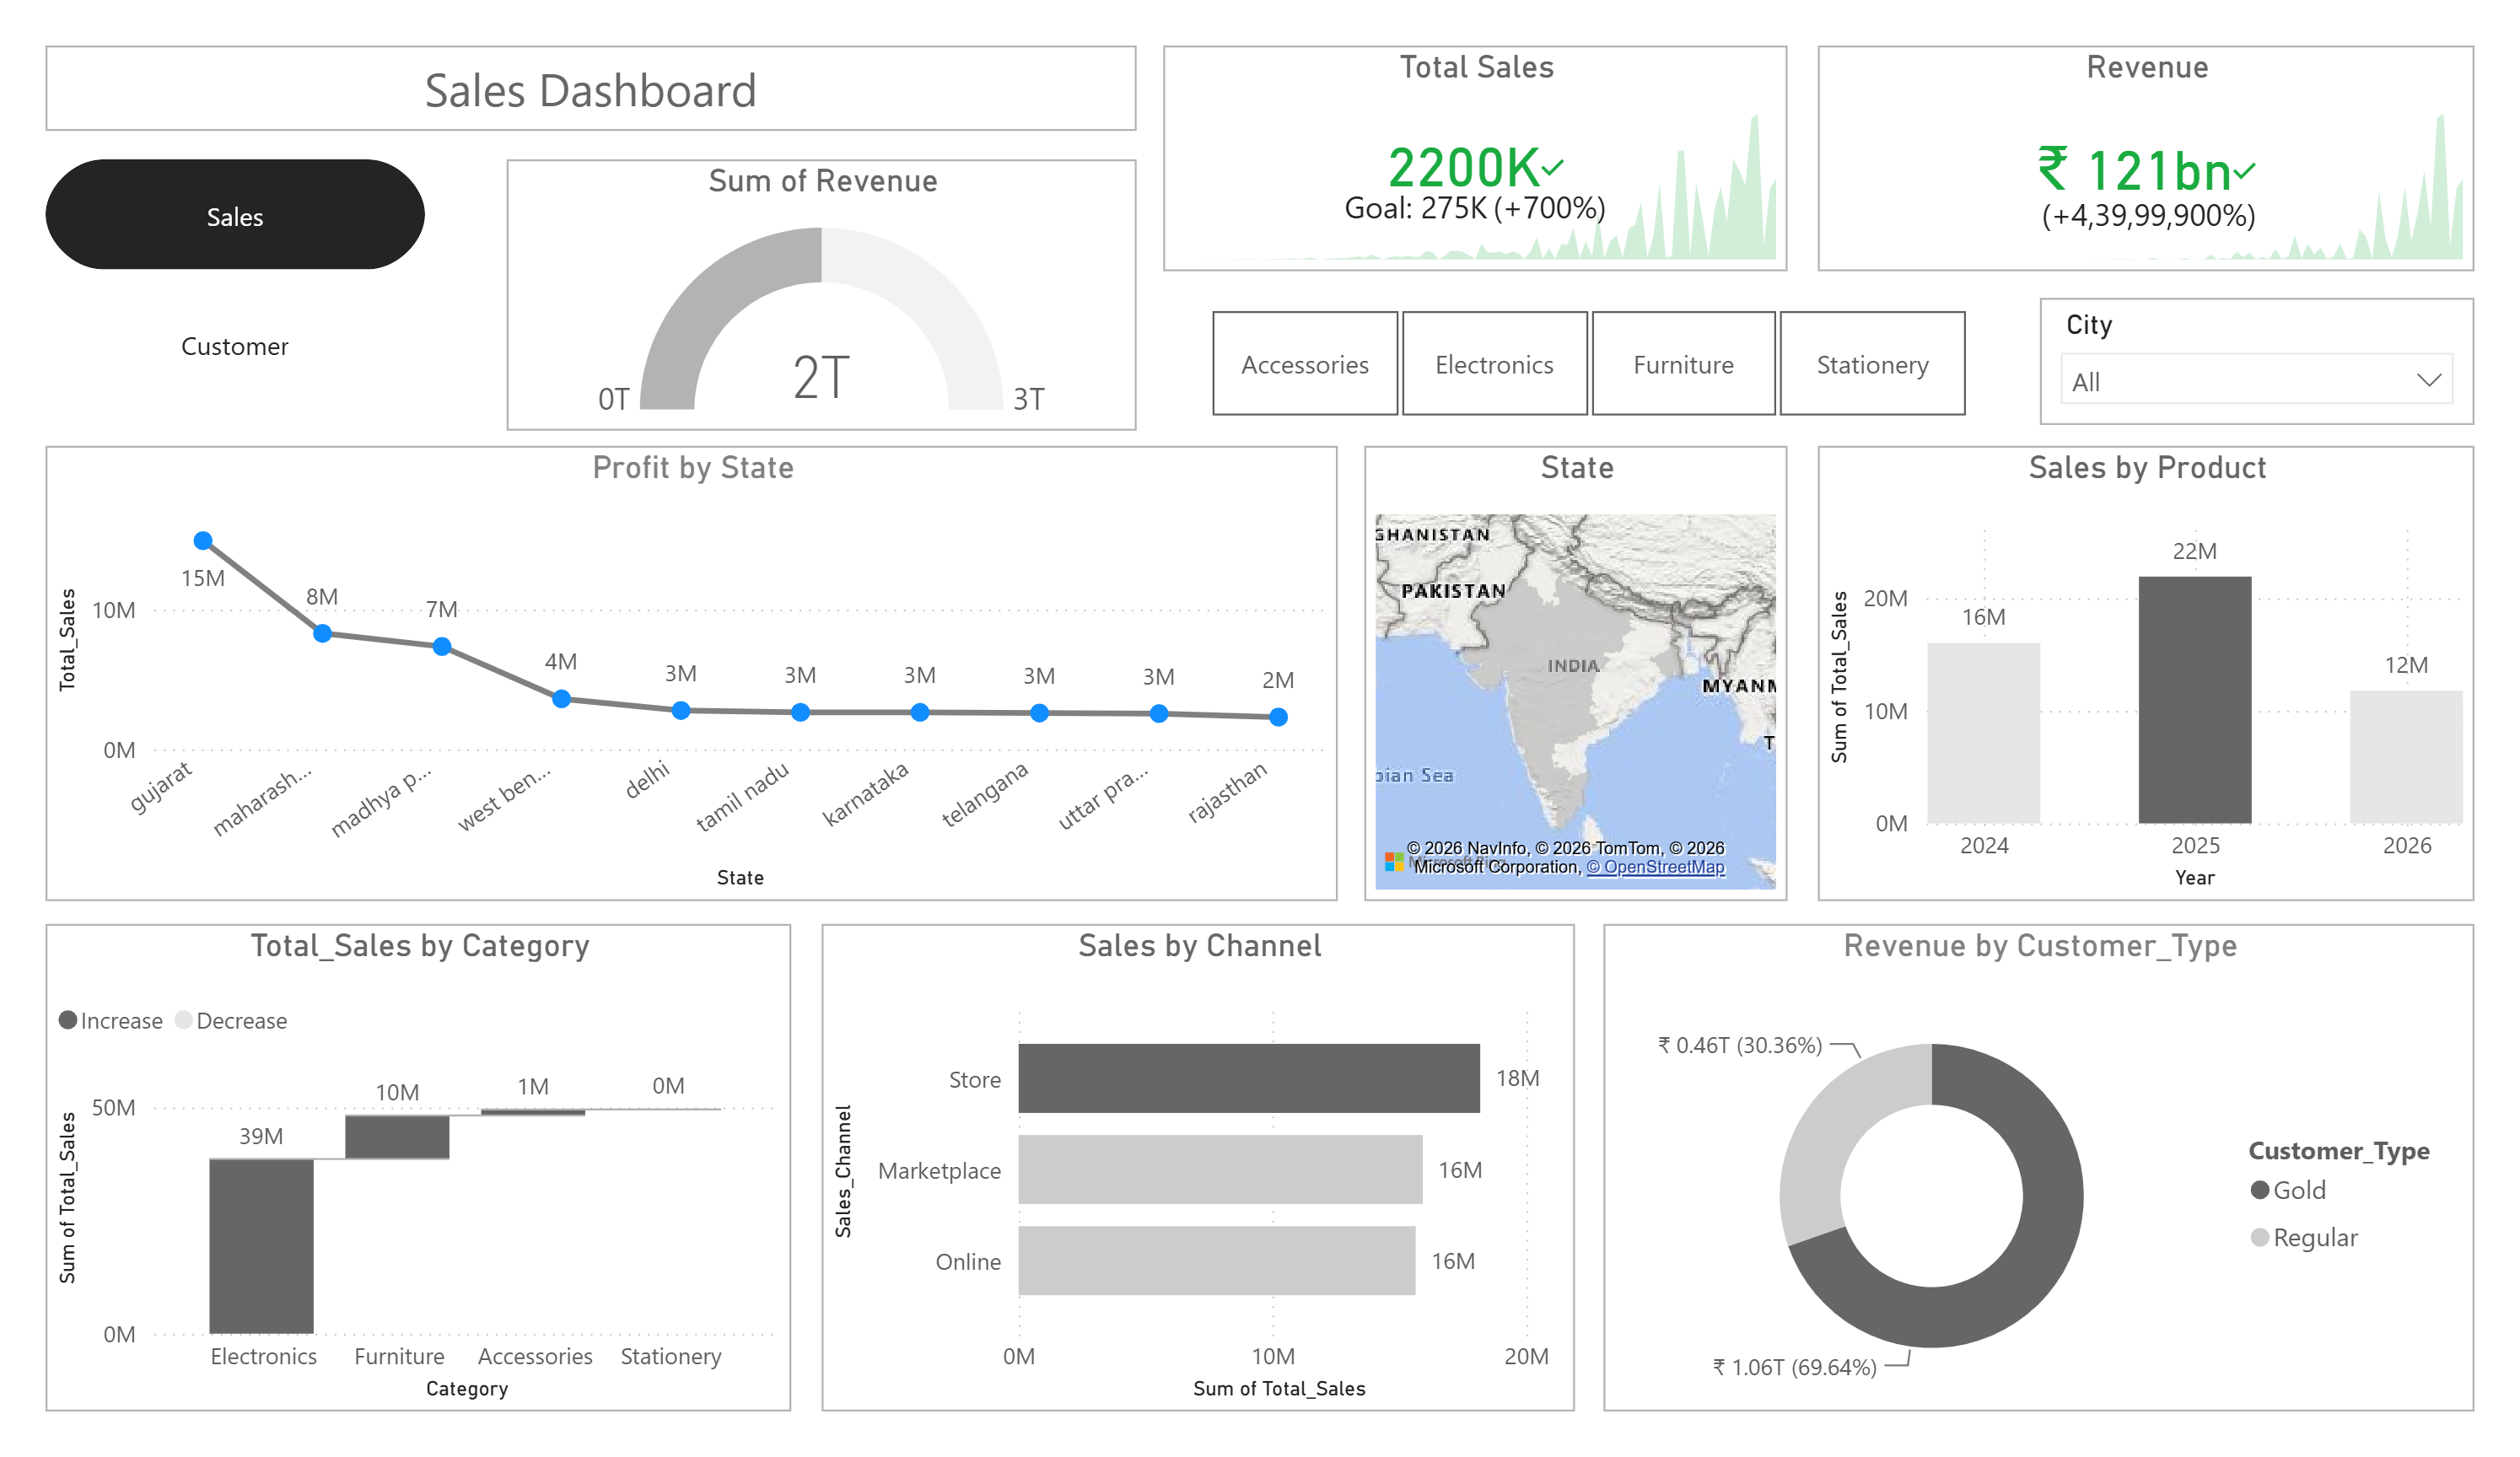

The page's visual inventory and layout, read from the dashboard file:
{"tool":"powerbi","page":{"name":"Sales","canvas":[1280,720],"ordinal":0},"visuals":[{"type":"lineChart","title":"Profit by State","fields":{"Category":["Table1.State"],"Y":["Sum(Table1.Total_Sales)"]},"box":[0,211.2,681.2,240],"z":0},{"type":"waterfallChart","title":"Total_Sales by Category","fields":{"Category":["Table1.Category"],"Y":["Sum(Table1.Total_Sales)"]},"box":[0,462.5,392.5,257.5],"z":1000},{"type":"filledMap","fields":{"Category":["Table1.State"]},"box":[695,211.2,222.5,240],"z":2000},{"type":"clusteredBarChart","title":"Sales by Channel","fields":{"Category":["Table1.Sales_Channel"],"Y":["Sum(Table1.Total_Sales)"]},"box":[408.8,462.5,397.5,257.5],"z":3000},{"type":"donutChart","title":"Revenue by Customer_Type","fields":{"Category":["Table1.Customer_Type"],"Y":["Sum(Table1.Revenue)"]},"box":[821.2,462.5,458.8,257.5],"z":4000},{"type":"gauge","fields":{"Y":["Sum(Table1.Revenue)"]},"box":[242.5,60,332.5,142.5],"z":5000},{"type":"textbox","box":[0,0,575,45],"z":6000},{"type":"slicer","fields":{"Values":["Table1.City"]},"box":[1051.2,132.5,228.8,67.5],"z":7000},{"type":"kpi","title":"Total Sales","fields":{"Indicator":["Sum(Table1.Total_Sales)"],"TrendLine":["Table1.Total_Sales"],"Goal":["Sum(Table1.Unit_Price)"]},"box":[588.8,0,328.8,118.8],"z":8000},{"type":"kpi","title":"Revenue","fields":{"Indicator":["Sum(Table1.Revenue)"],"TrendLine":["Table1.Total_Sales"],"Goal":["Sum(Table1.Unit_Price)"]},"box":[933.8,0,346.2,118.8],"z":9000},{"type":"columnChart","title":"Sales by Product","fields":{"Category":["Table1.Order_Date.Variation.Date Hierarchy.Year","Table1.Order_Date.Variation.Date Hierarchy.Quarter","Table1.Order_Date.Variation.Date Hierarchy.Month","Table1.Order_Date.Variation.Date Hierarchy.Day"],"Y":["Sum(Table1.Total_Sales)"]},"box":[933.8,211.2,346.2,240],"z":10000},{"type":"slicer","title":"Category","fields":{"Values":["Table1.Category"]},"box":[588.7,133.1,447.3,68.6],"z":11000},{"type":"pageNavigator","box":[0,60,200,126.2],"z":13000}]}

Visuals, with their boxes in screenshot pixels (x1, y1, x2, y2), scaled from the page's 1280x720 canvas onto the 2520x1457 screenshot:
"Profit by State" lineChart: x1=0, y1=427, x2=1341, y2=913
"Total_Sales by Category" waterfallChart: x1=0, y1=936, x2=773, y2=1456
filledMap - Table1.State: x1=1368, y1=427, x2=1807, y2=913
"Sales by Channel" clusteredBarChart: x1=805, y1=936, x2=1587, y2=1456
"Revenue by Customer_Type" donutChart: x1=1617, y1=936, x2=2519, y2=1456
gauge - Sum(Table1.Revenue): x1=477, y1=121, x2=1132, y2=410
textbox: x1=0, y1=0, x2=1132, y2=91
slicer - Table1.City: x1=2070, y1=268, x2=2519, y2=405
"Total Sales" kpi: x1=1159, y1=0, x2=1807, y2=240
"Revenue" kpi: x1=1839, y1=0, x2=2519, y2=240
"Sales by Product" columnChart: x1=1839, y1=427, x2=2519, y2=913
"Category" slicer: x1=1159, y1=269, x2=2039, y2=408
pageNavigator: x1=0, y1=121, x2=394, y2=377
